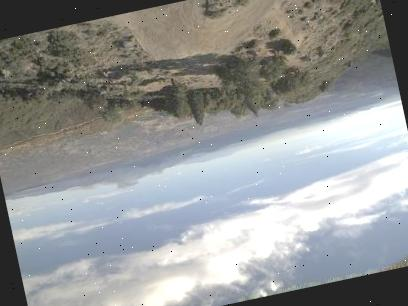smoke: (67, 146, 200, 202)
